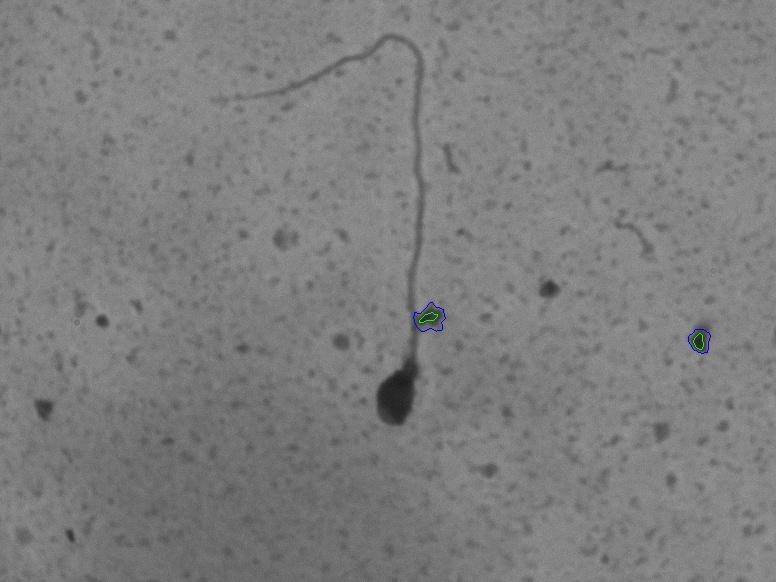Abnormal: (215, 22, 488, 471)
